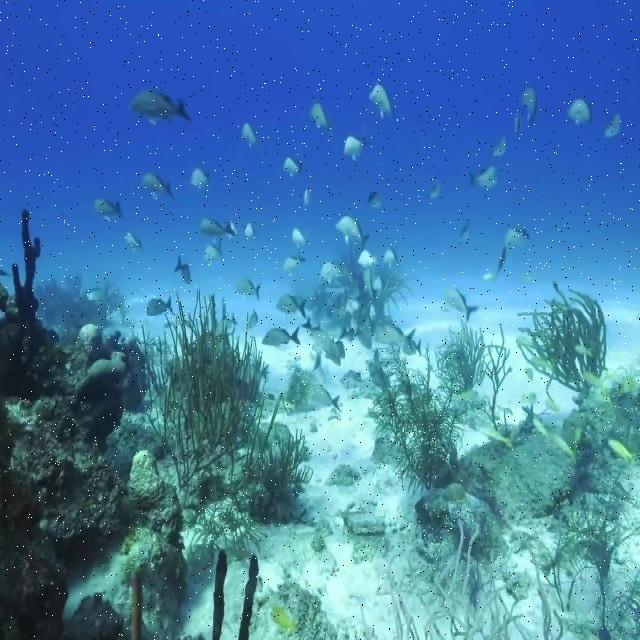aquatic plants: (141, 289, 283, 495), (368, 344, 465, 496), (516, 282, 609, 403), (476, 322, 514, 429), (435, 320, 490, 391)
fish: (130, 92, 192, 122), (444, 286, 480, 322), (376, 323, 416, 350), (140, 171, 175, 201), (310, 384, 343, 413), (336, 216, 370, 243), (367, 82, 391, 120), (94, 196, 126, 219), (469, 165, 499, 189), (283, 249, 308, 276), (521, 86, 537, 127), (263, 328, 300, 345), (308, 103, 332, 129), (567, 97, 590, 124), (278, 295, 306, 317), (343, 136, 367, 161), (201, 219, 236, 235), (173, 256, 192, 284), (204, 237, 222, 266), (147, 295, 171, 316), (504, 228, 532, 246), (320, 261, 343, 282), (283, 156, 302, 181), (125, 231, 144, 255), (241, 121, 256, 149), (238, 278, 260, 297), (190, 168, 208, 189), (603, 114, 621, 135), (358, 248, 378, 266), (383, 248, 399, 267), (367, 188, 384, 205), (245, 221, 257, 236)
sea-floor: (0, 209, 185, 639)
